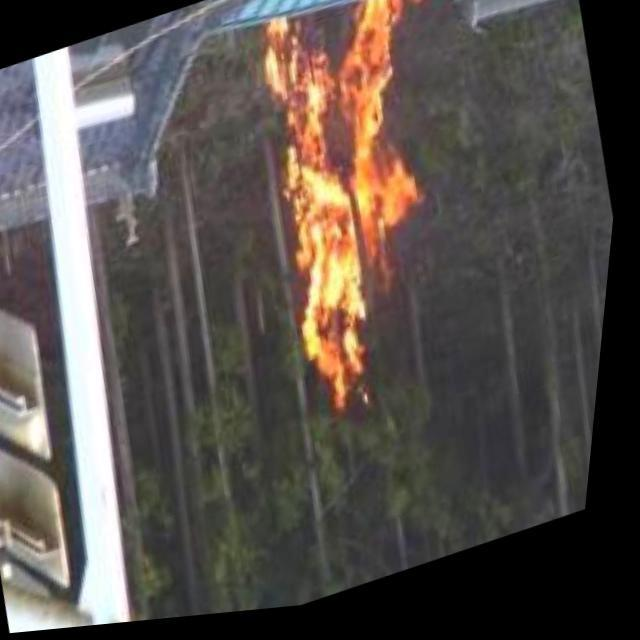fire: (210, 0, 474, 422)
